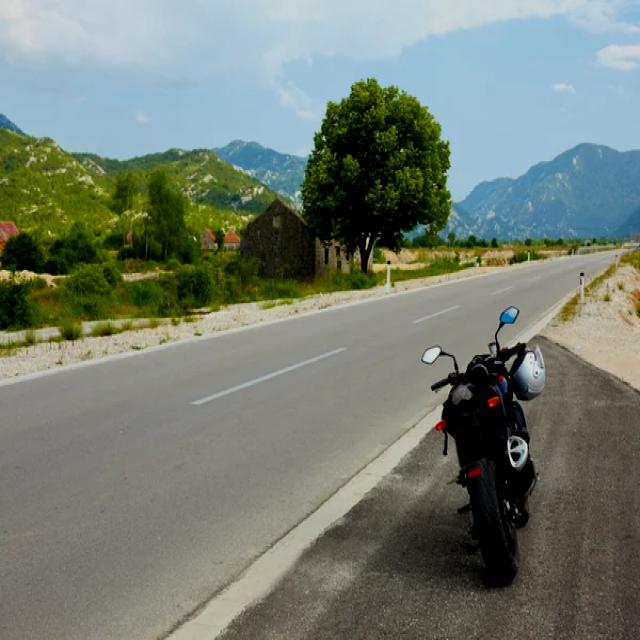MOTORCYCLE: (441, 331, 531, 577)
